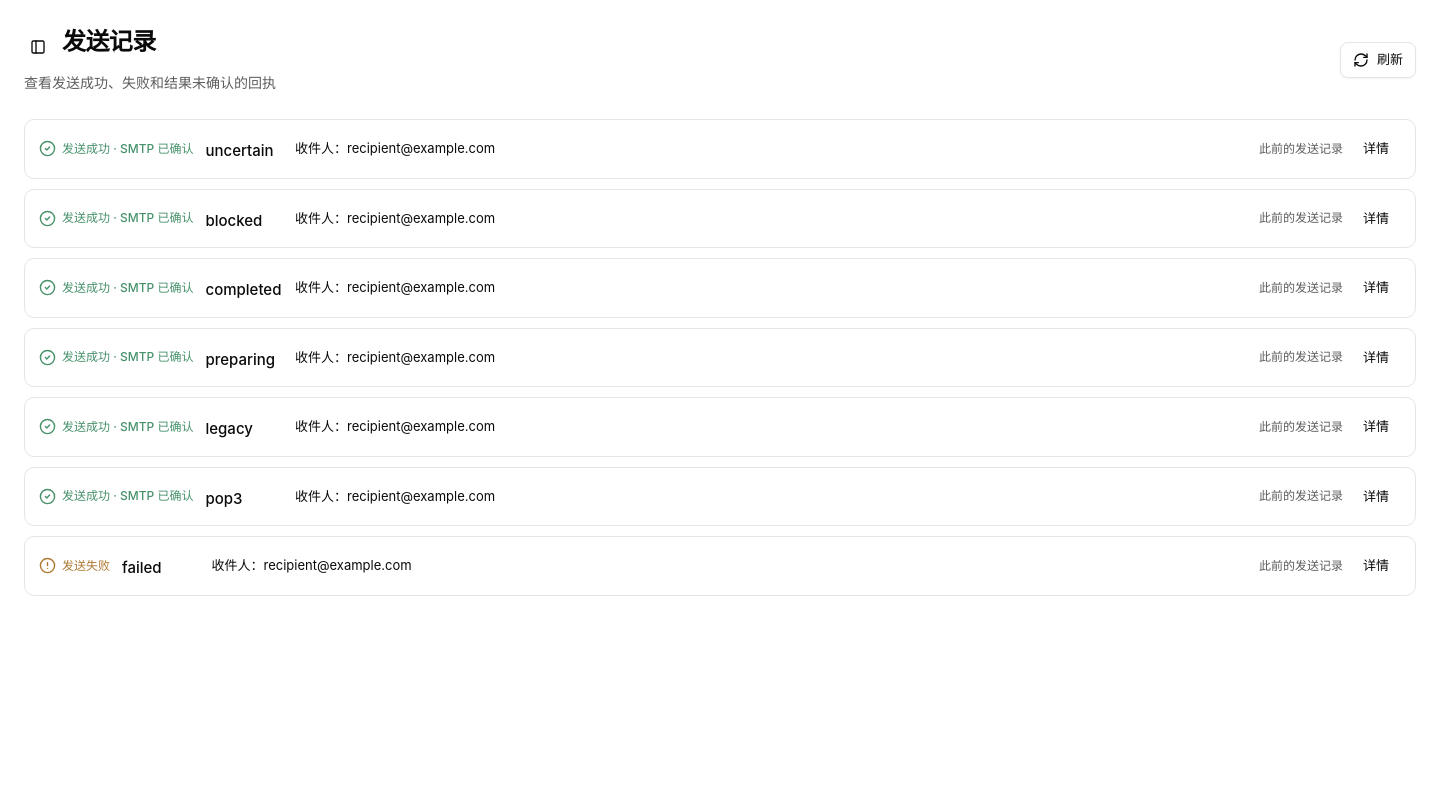
keeps completed records compact until details are opened
Expected: the text "completed" is shown, [206, 280, 282, 299]
Expected: the text "服务器已发送副本已核对" is not shown
Click the button "详情" in the row of "completed".
click(1376, 288)  # box [1351, 272, 1401, 304]
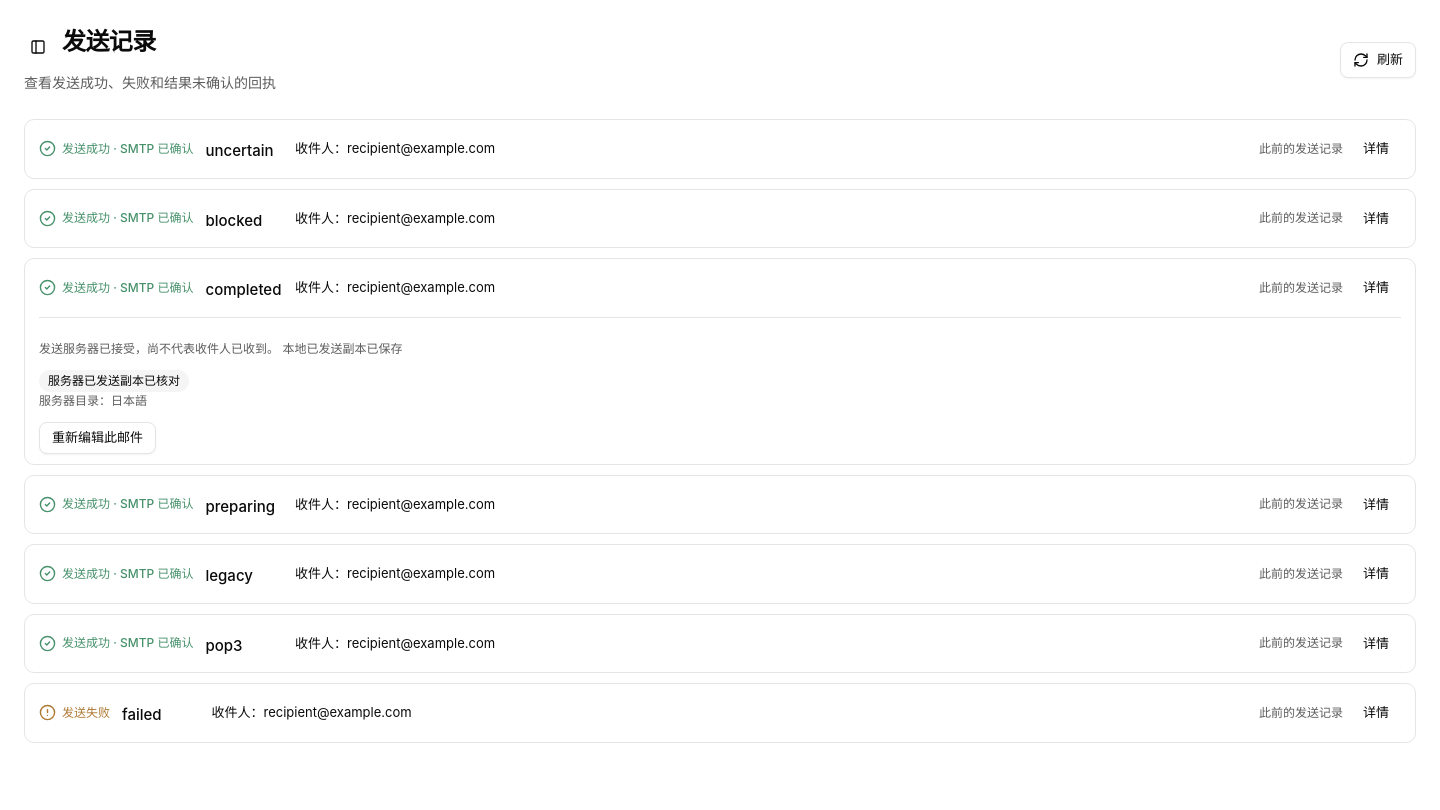
Now the text "服务器已发送副本已核对" is shown, box [48, 373, 180, 388]
